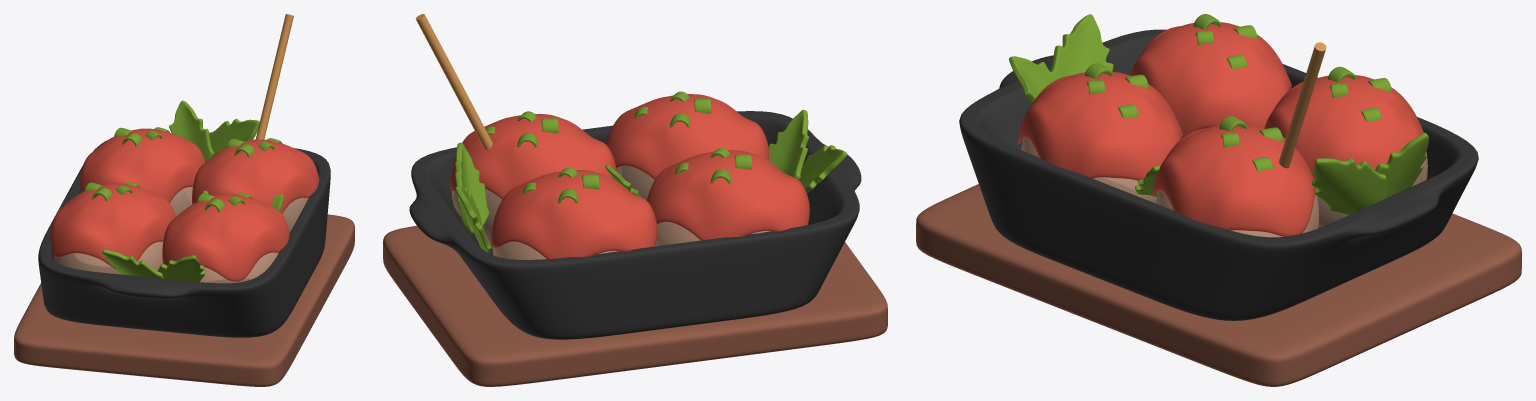
Rendered from meatball.glb.
The picture shows the model from 3 angles, left to right: view 1: azimuth 30°, elevation 25°; view 2: azimuth 150°, elevation 25°; view 3: azimuth 270°, elevation 25°; orthographic projection. The views are drawn at different scales.
Parts seen in each view (by area): view 1: takoyaki, pan, plate, Plane.004, wood; view 2: takoyaki, pan, plate, Plane.004, wood; view 3: takoyaki, pan, plate, Plane.004, wood.
Part boxes in pixels (box(x1,y1,x2,y2)): takoyaki: box(50, 127, 319, 283); pan: box(38, 140, 330, 337); plate: box(14, 214, 354, 386); Plane.004: box(102, 100, 283, 281); wood: box(256, 14, 293, 139); takoyaki: box(450, 91, 809, 259); pan: box(409, 111, 861, 339); plate: box(383, 225, 887, 386); Plane.004: box(455, 109, 846, 252); wood: box(415, 14, 492, 149); takoyaki: box(1018, 14, 1427, 237); pan: box(959, 29, 1478, 320); plate: box(916, 184, 1521, 386); Plane.004: box(1009, 14, 1428, 214); wood: box(1279, 42, 1326, 168).
Bounding box in the file's own units: 3.06 × 1.79 × 3.1.
